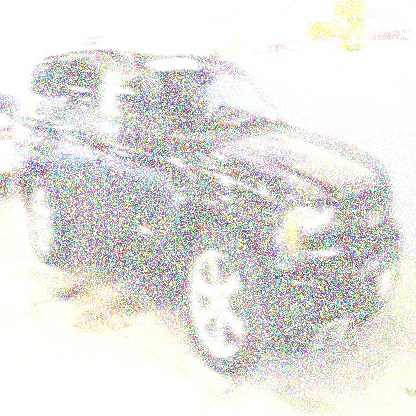Vehicle: (9, 36, 410, 380)
